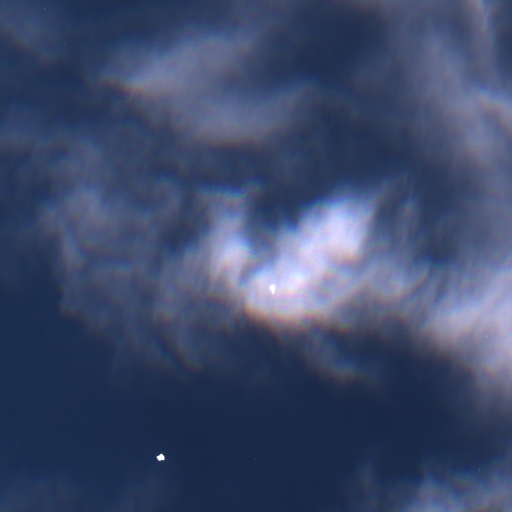Iceberg: (156, 453, 164, 460), (270, 285, 274, 293), (44, 7, 45, 9)
